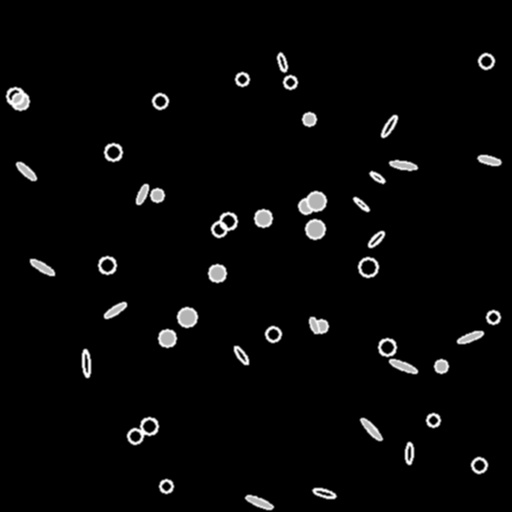pseudomonas: (359, 416, 383, 442), (29, 257, 55, 277), (379, 114, 399, 138), (388, 358, 418, 374), (245, 494, 273, 510), (15, 161, 37, 181), (103, 301, 127, 319), (457, 329, 483, 345), (232, 344, 250, 366), (367, 230, 385, 248), (135, 183, 149, 205), (352, 196, 370, 212), (312, 487, 336, 499), (390, 160, 416, 170), (276, 52, 288, 72), (369, 170, 385, 184), (478, 155, 500, 165), (308, 316, 320, 334), (82, 350, 90, 376), (405, 442, 413, 464)
synechocystis: (359, 258, 377, 276), (178, 308, 196, 326), (307, 192, 325, 210), (306, 220, 324, 238), (255, 210, 271, 226), (12, 93, 28, 109), (159, 330, 175, 346), (99, 257, 115, 273), (220, 213, 236, 229), (209, 265, 225, 281), (379, 339, 395, 355), (7, 88, 23, 104), (105, 144, 121, 160), (141, 418, 157, 434), (153, 94, 167, 108), (472, 458, 486, 472), (299, 199, 313, 213), (212, 222, 226, 236), (266, 327, 280, 341), (128, 429, 142, 443), (479, 54, 493, 68), (284, 76, 296, 88), (303, 113, 315, 125), (427, 414, 439, 426), (487, 311, 499, 323), (435, 360, 447, 372), (151, 189, 163, 201), (160, 480, 172, 492), (315, 320, 327, 332), (236, 73, 248, 85)
